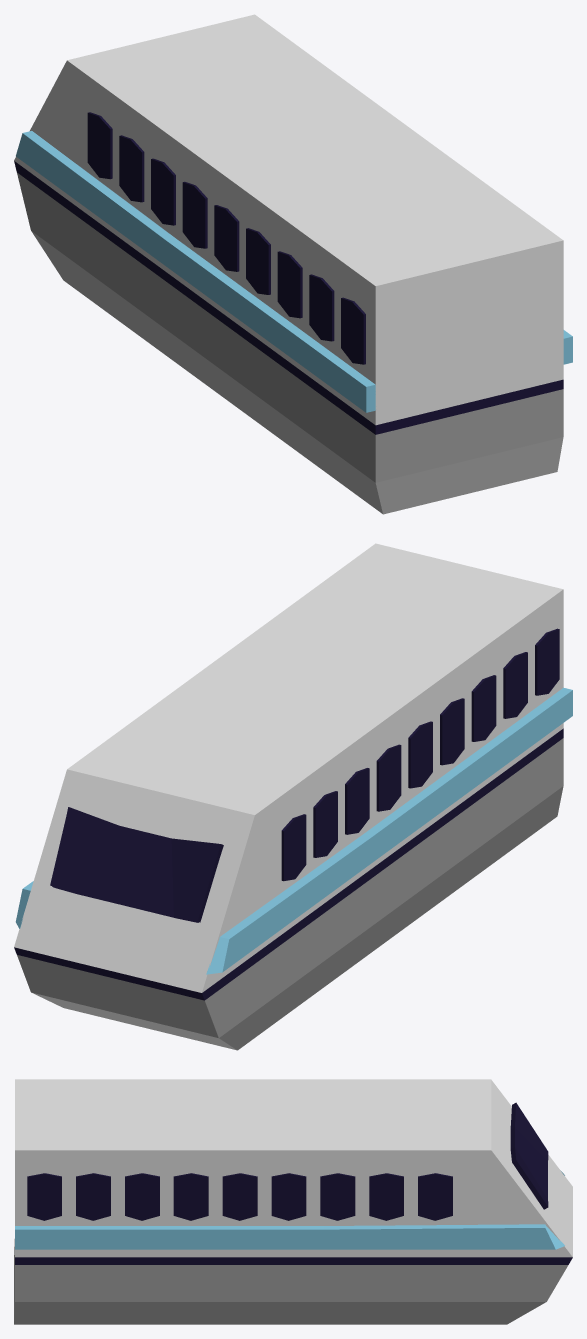
File: head.fbx
The picture shows the model from 3 angles, top to bottom: view 1: azimuth 30°, elevation 25°; view 2: azimuth 150°, elevation 25°; view 3: azimuth 270°, elevation 25°; orthographic projection. The views are drawn at different scales.
Visible parts, largest first — view 1: tail; view 2: tail; view 3: tail.
Part boxes in pixels (box(x1,y1,x2,y2)): tail: box(14, 14, 572, 514); tail: box(14, 543, 572, 1050); tail: box(14, 1079, 572, 1324).
Bounding box in the file's own units: 220 × 233 × 668.
